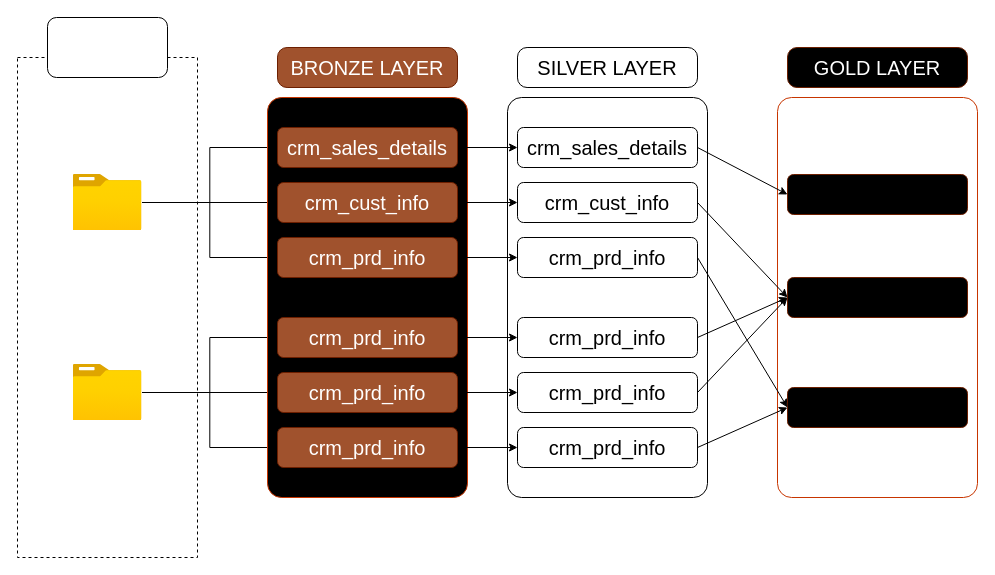
The diagram is 995 pixels wide and 575 high, and some of its shapes have lost their labels. The box of each missing label's shape, as (x1, y1, x2, y2) in pixels:
CRM: (72, 174, 142, 230)
dim_customers: (786, 276, 968, 318)
dim_products: (786, 386, 968, 428)
ERP: (72, 364, 142, 420)
fact_sales: (786, 174, 968, 214)
SOURCES: (46, 16, 168, 78)
